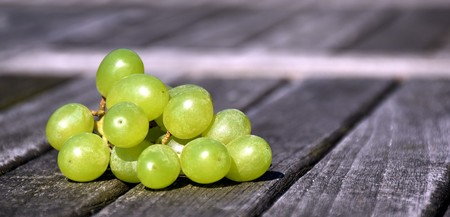Green grapes: (41, 57, 276, 189)
